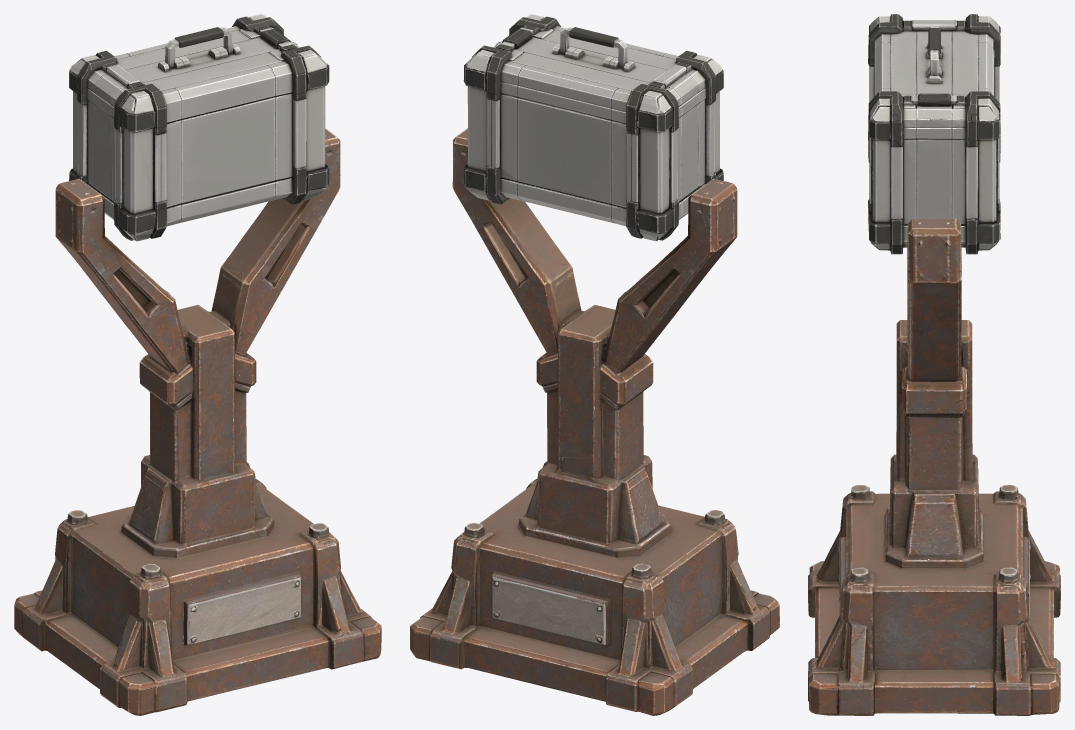
File: P_MetalShelf_001.obj
3 views of the same model, side by side, from view 1: azimuth 30°, elevation 25°; view 2: azimuth 150°, elevation 25°; view 3: azimuth 270°, elevation 25° (orthographic).
Bounding box in the file's own units: 2 × 4.31 × 1.61.
Materials: 2 (2 with a texture image).
